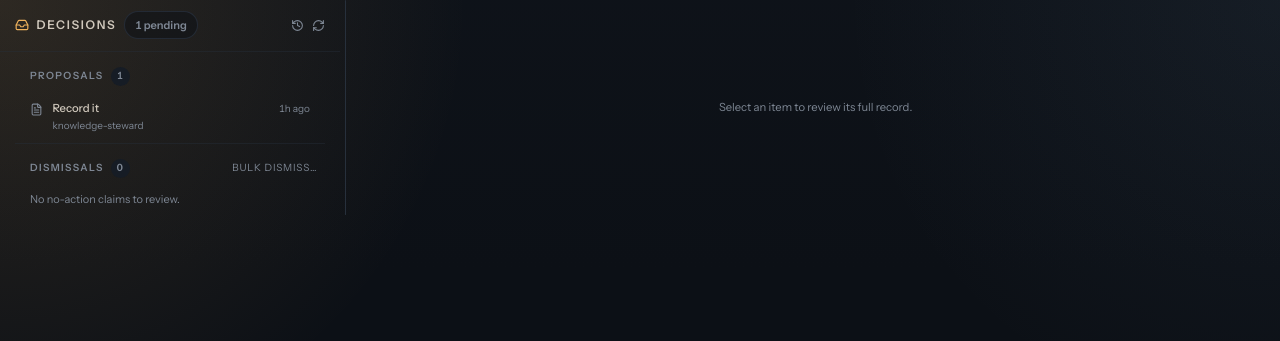
Test: DecisionsView proposal pane › renders the agent stated confidence as a badge
The width and height of the screenshot is (1280, 341).
Click the text "Record it" at [76, 108], box [52,101,99,115]
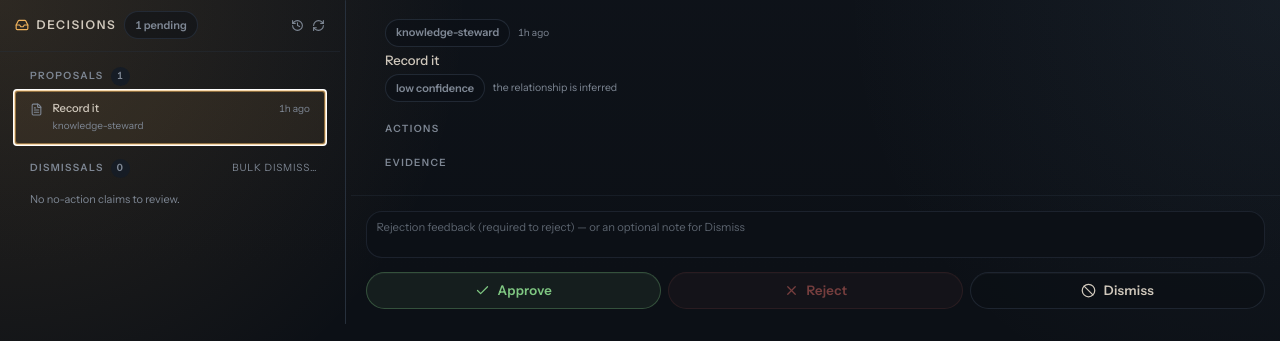
Expected: the text "low confidence" is shown, [385,74,485,102]
Expected: the text "the relationship is inferred" is shown, [492,81,617,94]
